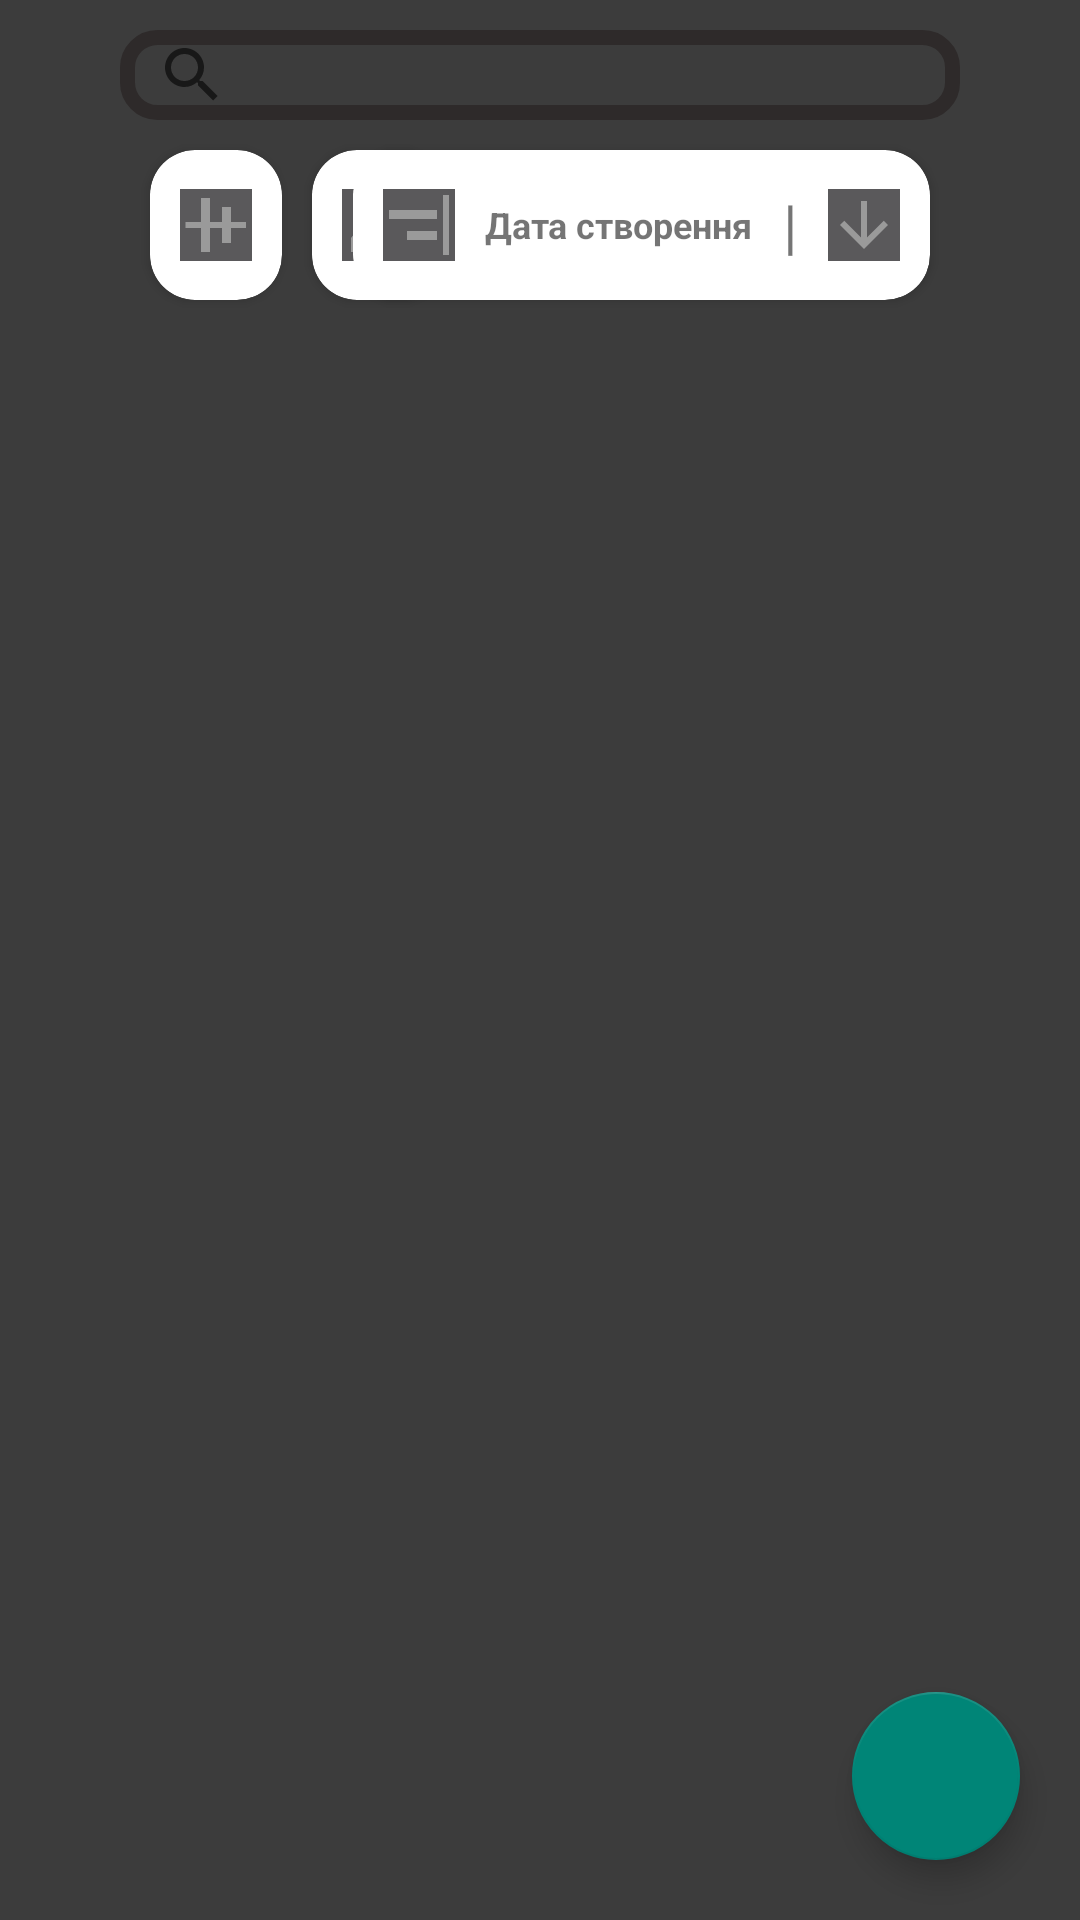

Locate icon controls on the screen. Image size 1080 x 1920, boxes as [left=x1, top=y1, right=x2, bottom=y2].
arrow type: [left=828, top=189, right=900, bottom=261]
list: [left=383, top=189, right=455, bottom=261]
